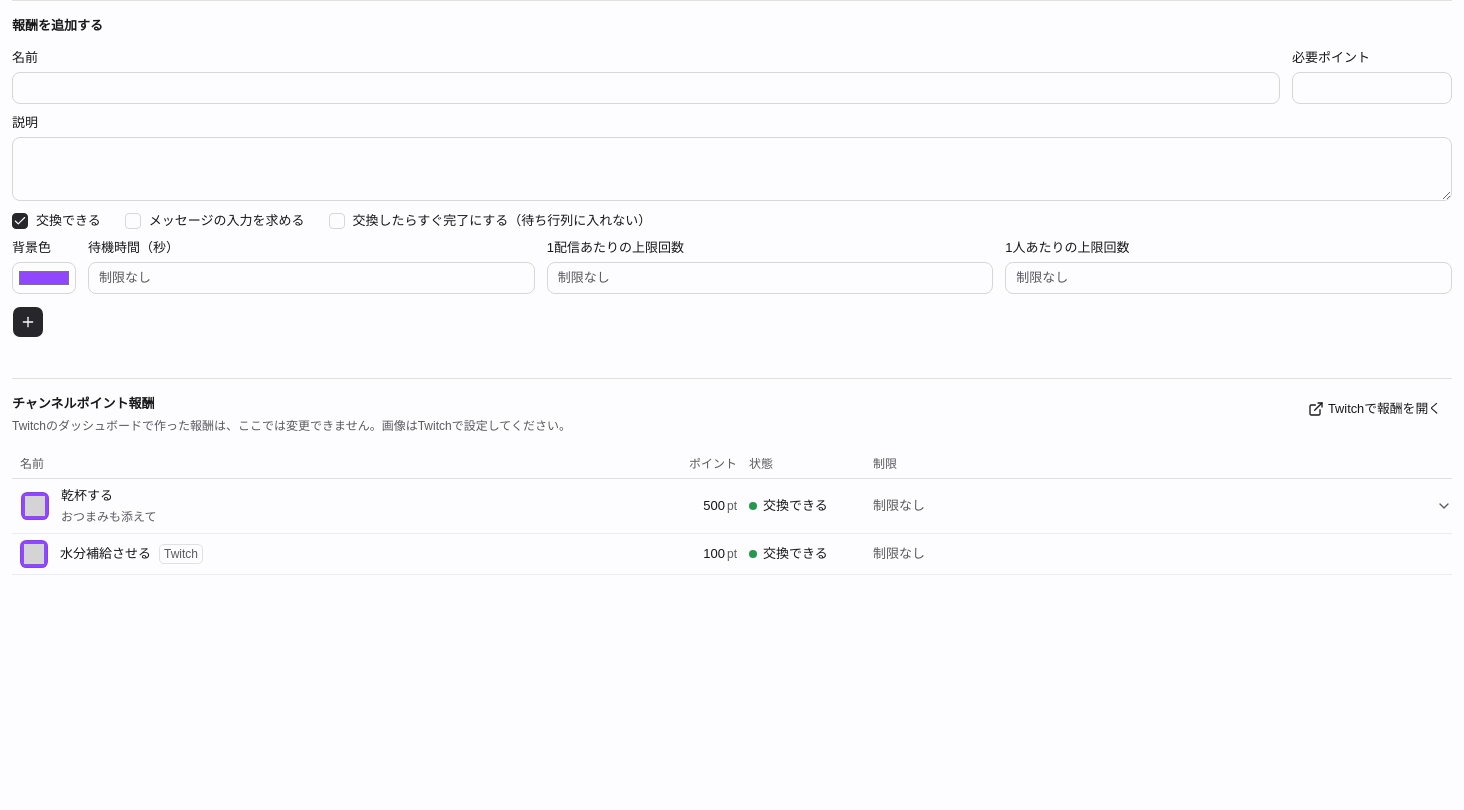
Test: 報酬の追加 › 問題点を持たない失敗（ログインし直しが要るなど）は、Workerのメッセージをそのまま出す
The image size is (1464, 810).
Click the button named "報酬を追加する" at [28, 322], box x1=12 y1=306 x2=44 y2=338
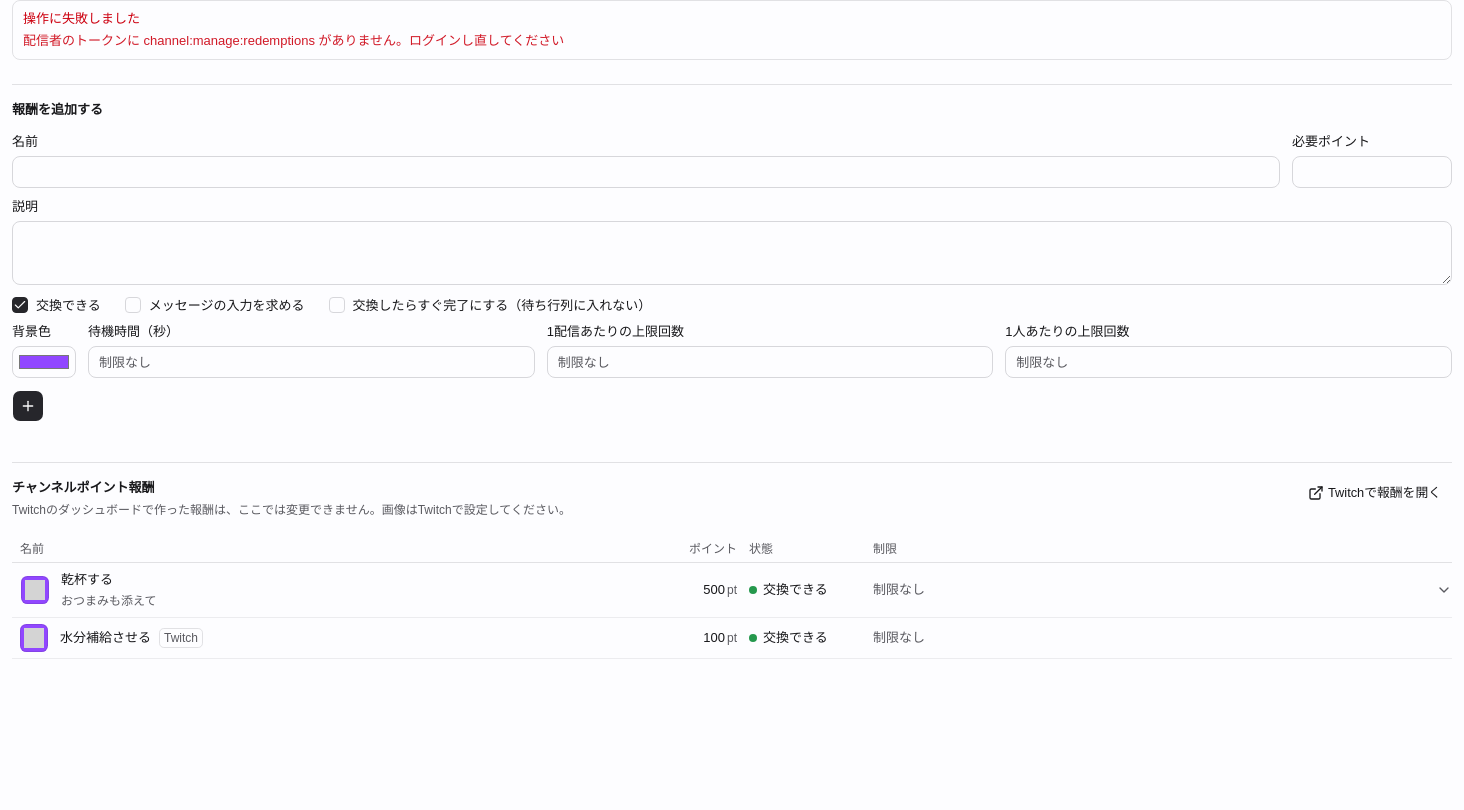
Expected: the text "配信者のトークンに channel:manage:redemptions がありません。ログインし直してください" is shown, x1=23 y1=33 x2=564 y2=48
